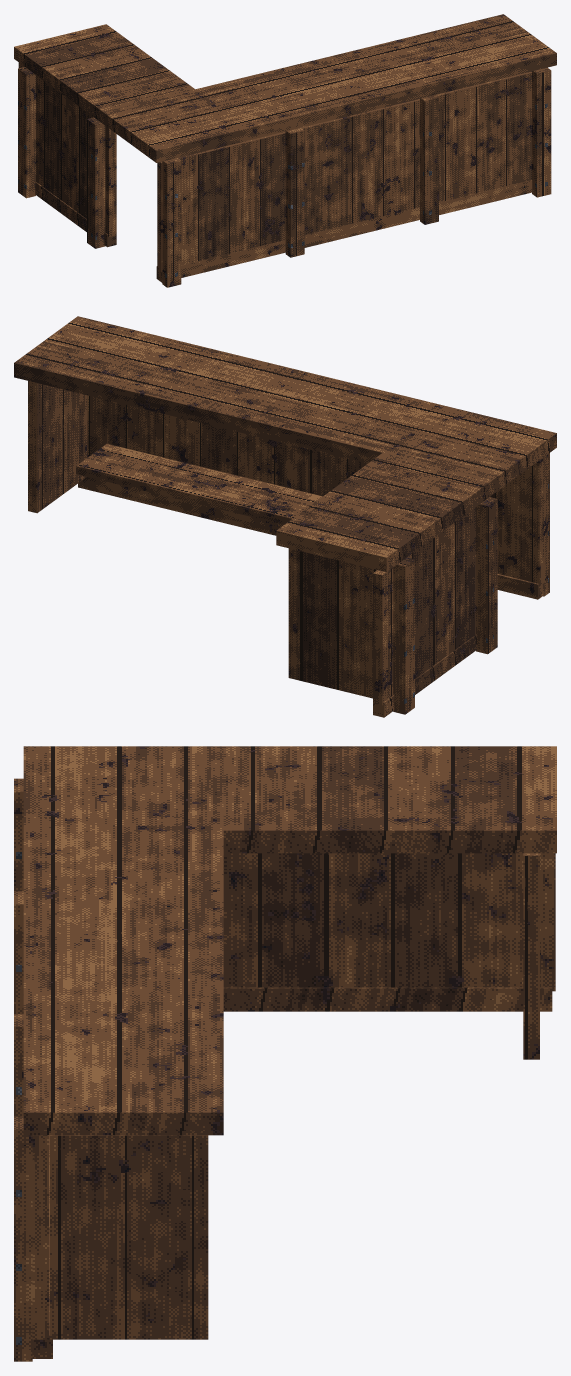
The model's file is SM_Prop_LobbyCornerCounter_01.glb.
3 renders of one model, top to bottom at view 1: azimuth 30°, elevation 25°; view 2: azimuth 150°, elevation 25°; view 3: azimuth 270°, elevation 25°, orthographic. The views are drawn at different scales.
Parts seen in each view (by area): view 1: front_boards, long_top, return_top, return_boards, base_rail, post_3, post_1, post_0, post_2, return_post_0, return_post_1, return_base_rail; view 2: long_top, front_boards, return_top, return_end, return_boards, inner_shelf, end_boards, base_rail, return_post_0, return_post_1, return_base_rail, post_0; view 3: long_top, return_boards, return_top, end_boards, return_base_rail, post_3, front_boards, return_end, post_1, post_0, post_2.
Boxes of the visible parts, <box> form: front_boards: <box>157,71,531,272</box>; long_top: <box>103,14,556,162</box>; return_top: <box>14,24,194,123</box>; return_boards: <box>18,62,116,236</box>; base_rail: <box>156,180,532,282</box>; post_3: <box>532,67,551,197</box>; post_1: <box>285,128,304,257</box>; post_0: <box>162,158,181,287</box>; post_2: <box>420,95,438,224</box>; return_post_0: <box>87,117,105,248</box>; return_post_1: <box>18,67,35,198</box>; return_base_rail: <box>35,182,116,247</box>; long_top: <box>14,316,556,493</box>; front_boards: <box>87,395,544,585</box>; return_top: <box>276,453,492,571</box>; return_end: <box>288,548,376,698</box>; return_boards: <box>373,507,475,705</box>; inner_shelf: <box>76,444,322,524</box>; end_boards: <box>28,381,87,513</box>; base_rail: <box>78,477,544,599</box>; return_post_0: <box>476,497,497,654</box>; return_post_1: <box>393,557,414,714</box>; return_base_rail: <box>373,634,476,717</box>; post_0: <box>543,453,549,596</box>; long_top: <box>23,746,223,1135</box>; return_boards: <box>223,853,555,991</box>; return_top: <box>223,746,556,853</box>; end_boards: <box>50,1135,208,1339</box>; return_base_rail: <box>223,987,552,1011</box>; post_3: <box>14,1116,32,1361</box>; front_boards: <box>32,1135,49,1339</box>; return_end: <box>523,853,539,1059</box>; post_1: <box>14,891,23,1014</box>; post_0: <box>14,778,23,891</box>; post_2: <box>14,1014,23,1116</box>.
Bounding box in the file's own units: 3.3 × 1.06 × 2.04.
Materials: 1 (1 with a texture image).
